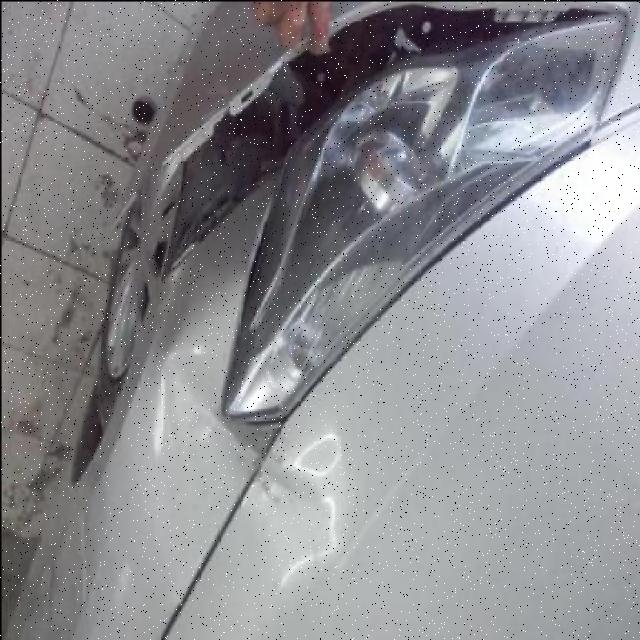damage: (120, 0, 624, 283), (161, 347, 354, 581)
